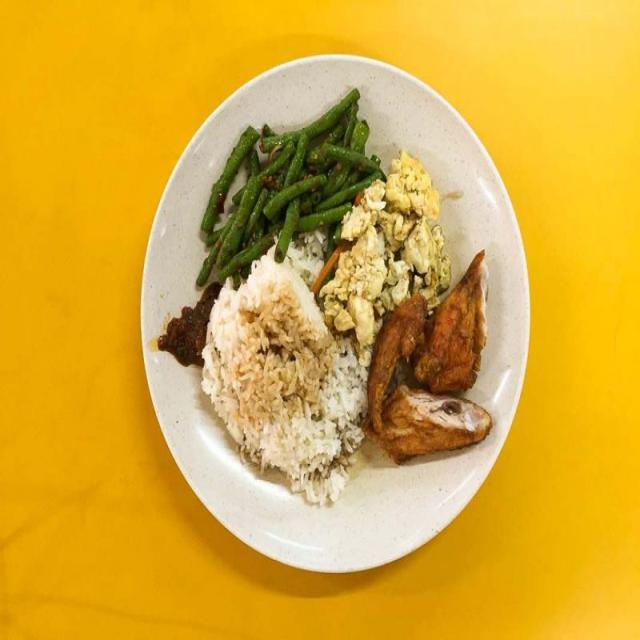Chicken: (368, 251, 491, 462)
Egg: (319, 150, 450, 366)
Green veg: (196, 89, 384, 285)
Rice: (202, 233, 369, 502)
